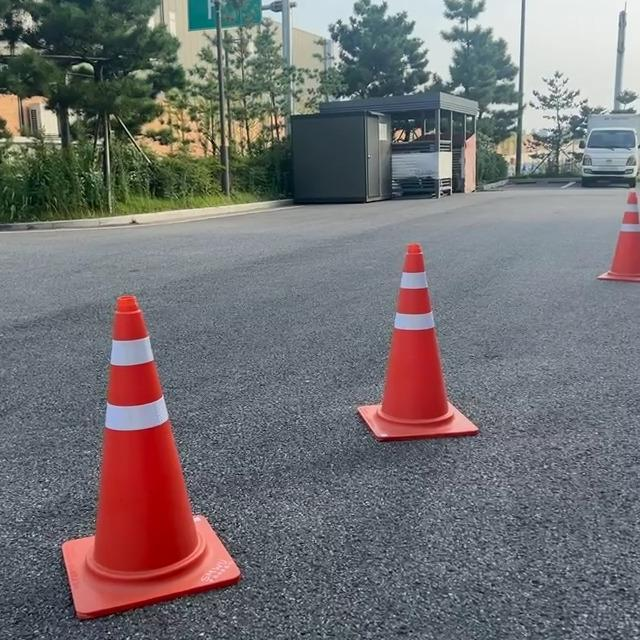fallen_object: (42, 273, 261, 603), (350, 213, 481, 475), (594, 158, 640, 314)
